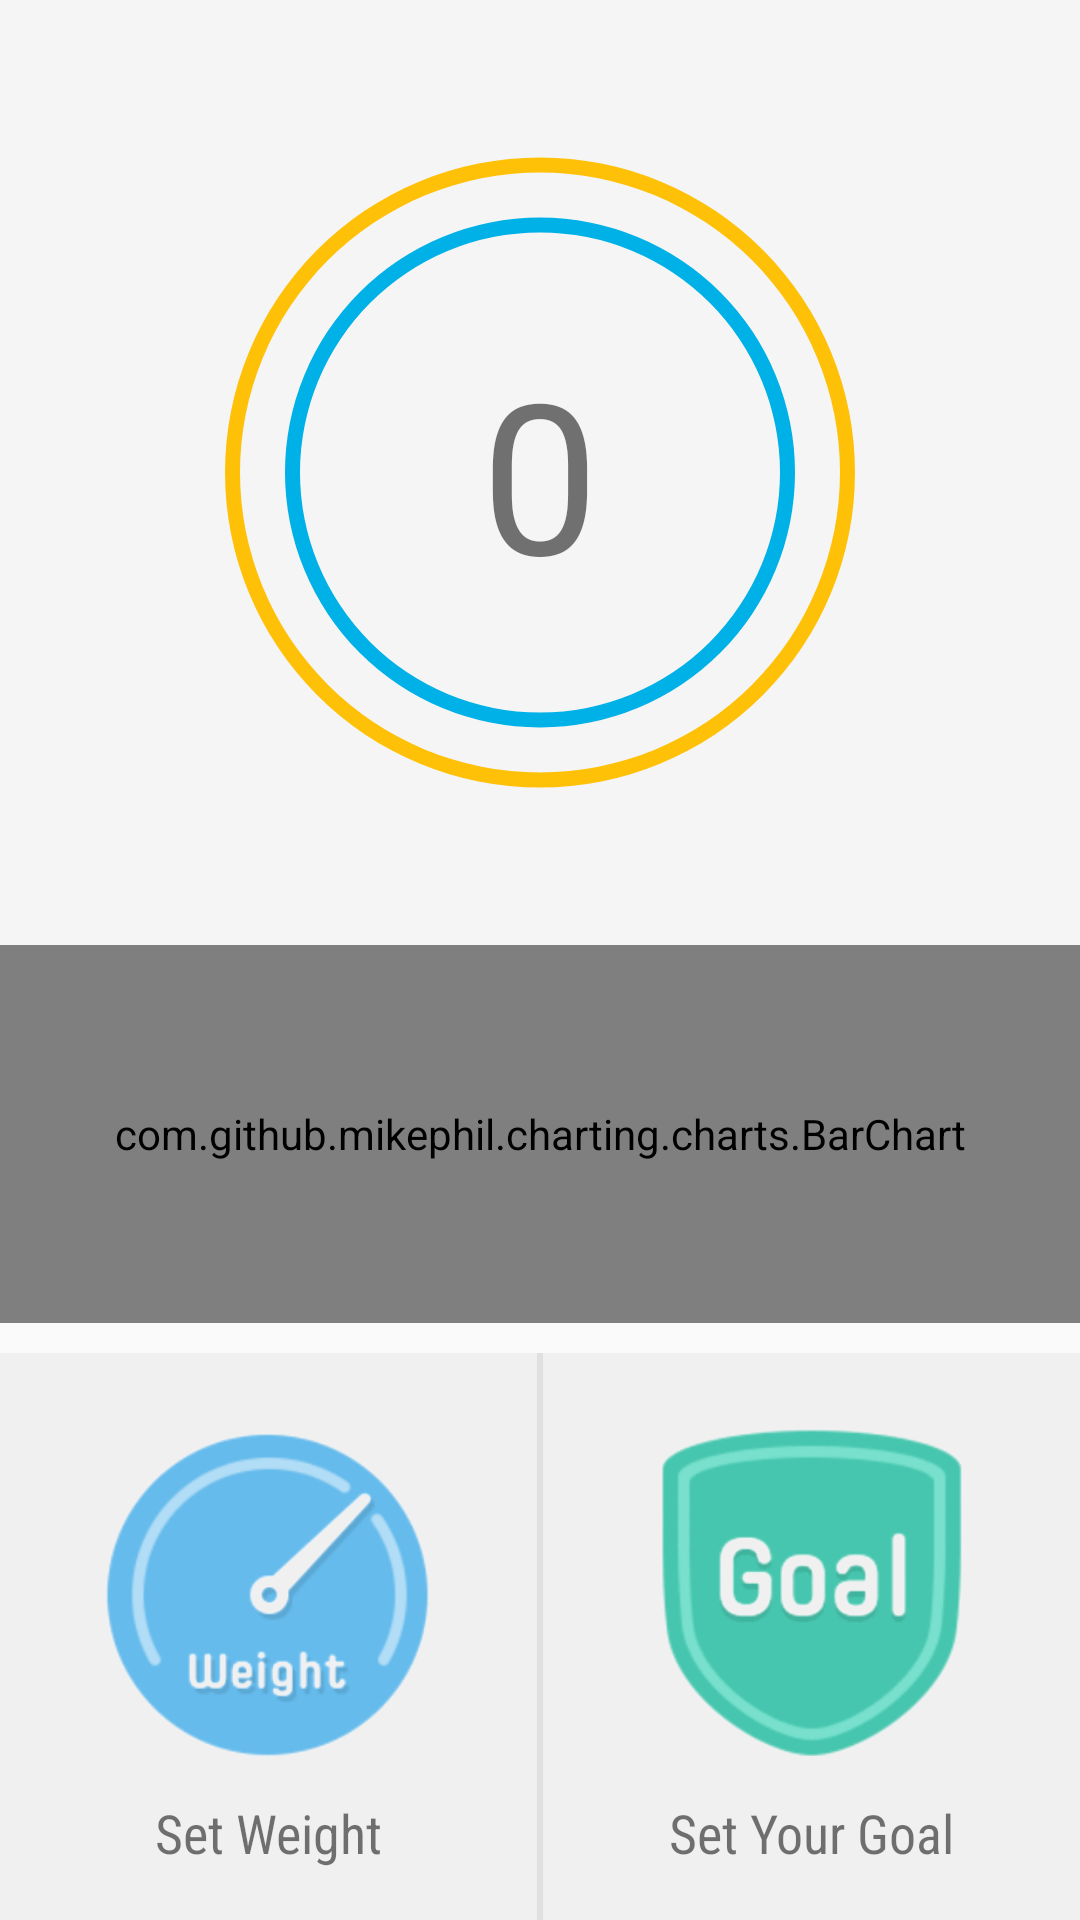

Screen size 1080×1920. Icon name, then its box in pixels as (x1, y1, x2, y2):
scale: (106, 1434, 429, 1756)
